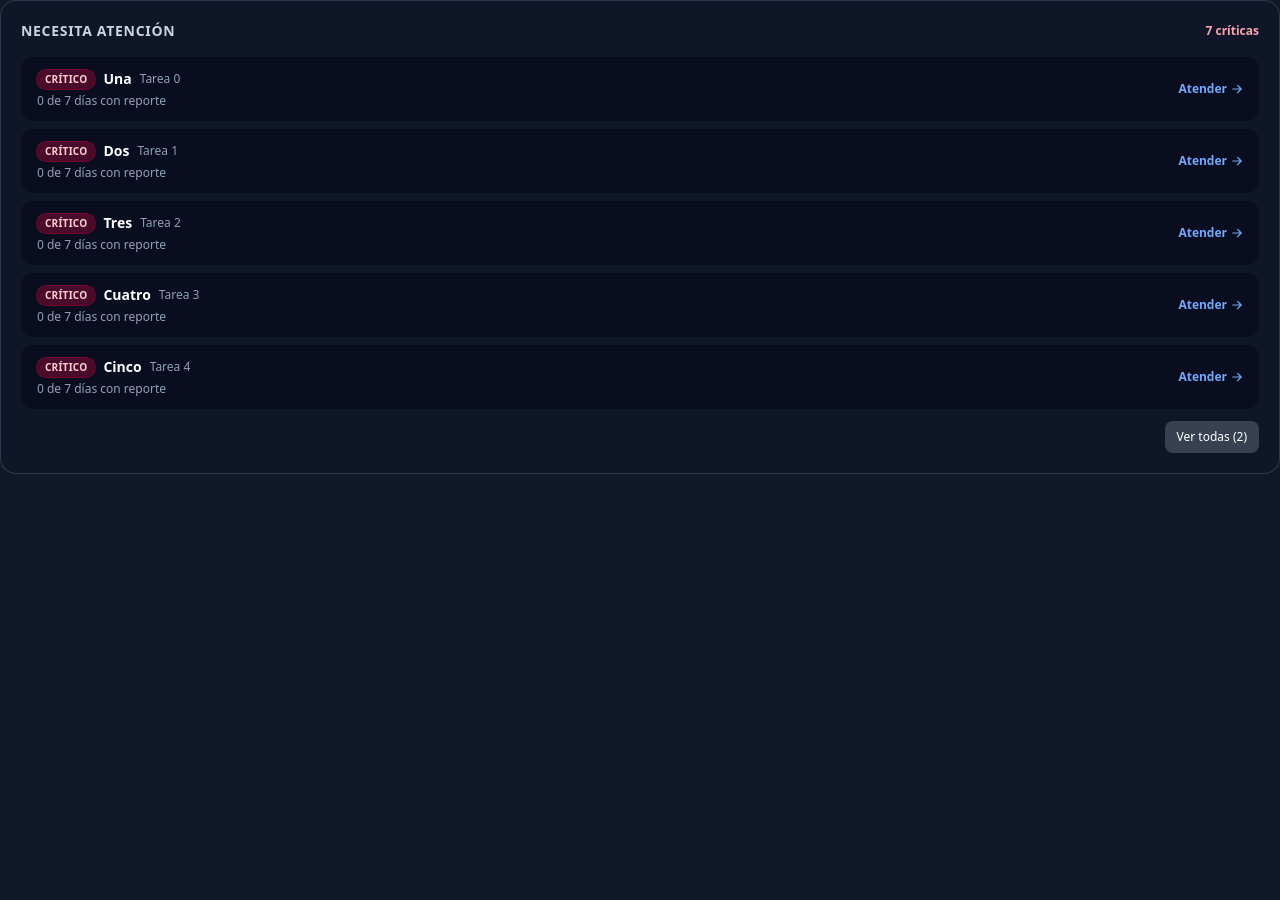
AttentionQueue › shows the first five items and opens the rest in a drawer
The width and height of the screenshot is (1280, 900).
Expected: the text "Cinco" is shown, [103, 357, 142, 377]
Expected: the text "Seis" is not shown
Step 1. Click the button "Ver todas (2)" → (1212, 437), box [1164, 421, 1259, 453]
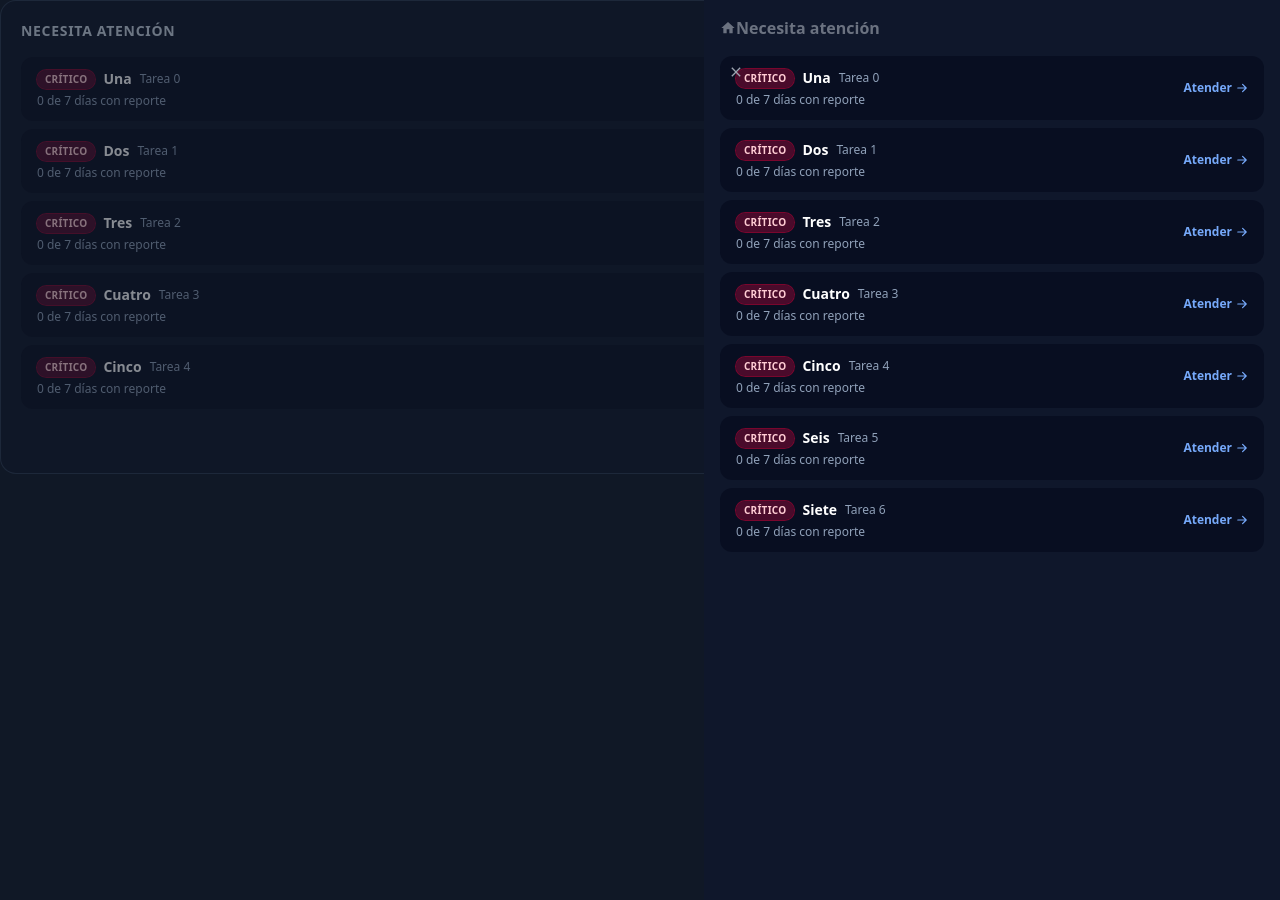
Result: the text "Seis" is shown at [802, 428, 830, 448]
Result: the text "Siete" is shown at [802, 500, 837, 520]
Result: the text "Una" is shown 2 times at [103, 69, 132, 89]; [802, 68, 831, 88]
